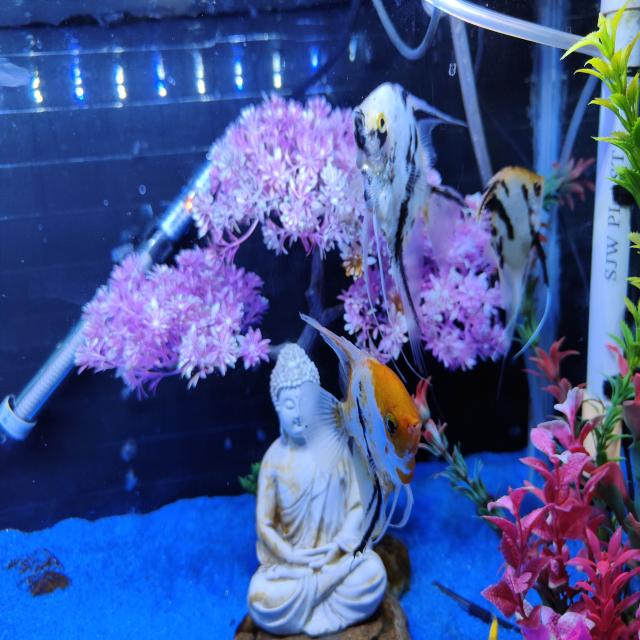Fish: (353, 83, 466, 373), (301, 314, 421, 552), (478, 167, 550, 357), (0, 58, 32, 87), (489, 616, 498, 639)
